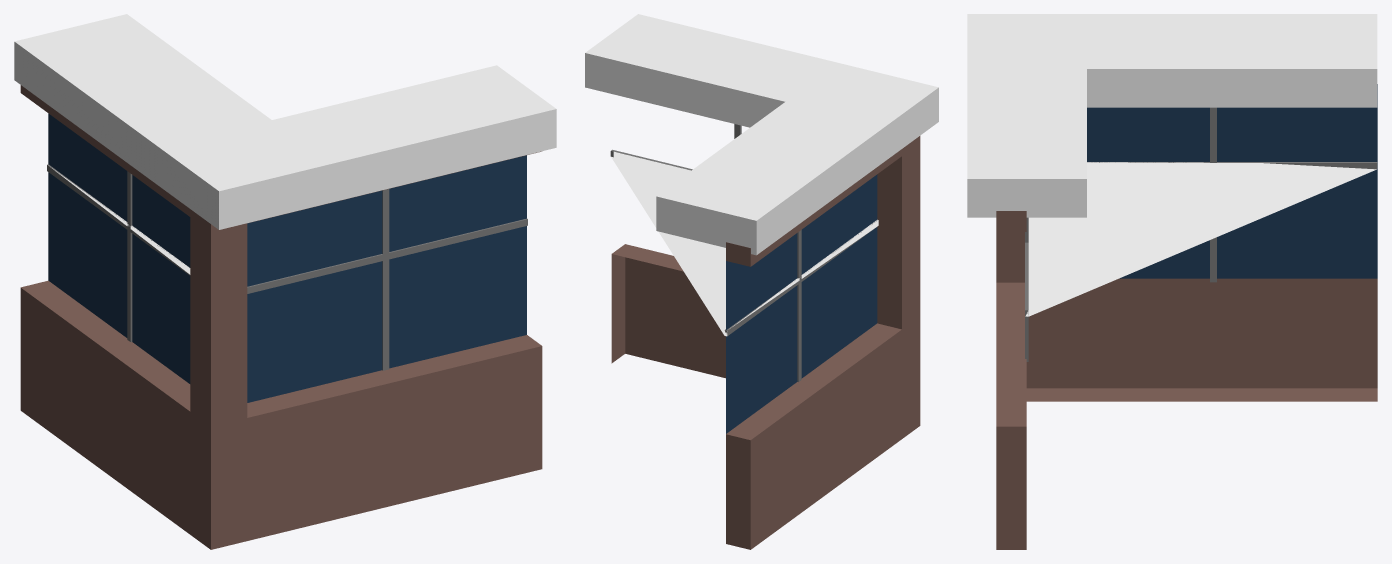
Rendered from top-c1.fbx.
The picture shows the model from 3 angles, left to right: view 1: azimuth 30°, elevation 25°; view 2: azimuth 150°, elevation 25°; view 3: azimuth 270°, elevation 25°; orthographic projection. The views are drawn at different scales.
Parts seen in each view (by area): view 1: top-c1; view 2: top-c1; view 3: top-c1.
Part boxes in pixels (x1,y1,x2,y2): top-c1: [14, 14, 556, 549]; top-c1: [585, 14, 938, 549]; top-c1: [967, 14, 1377, 549].
Size of the model in its own units: 3.34 by 3.5 by 3.51.
